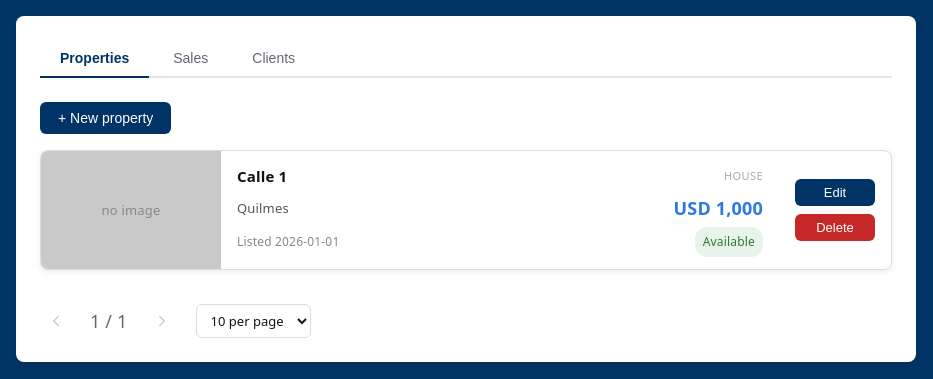
Test: AgencyDashboardPage › switches to the sales tab
The width and height of the screenshot is (933, 379).
Step 1. Click the button with test id "tab-sales" → (191, 59), box [153,40,228,78]
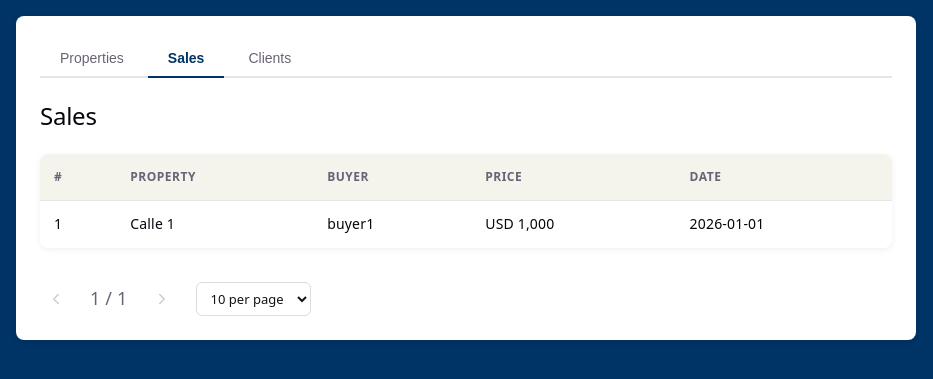
expect the table with test id "sales-list" is shown: met, box [40,154,892,248]
expect the text "buyer1" is shown: met, box [313,201,471,248]
